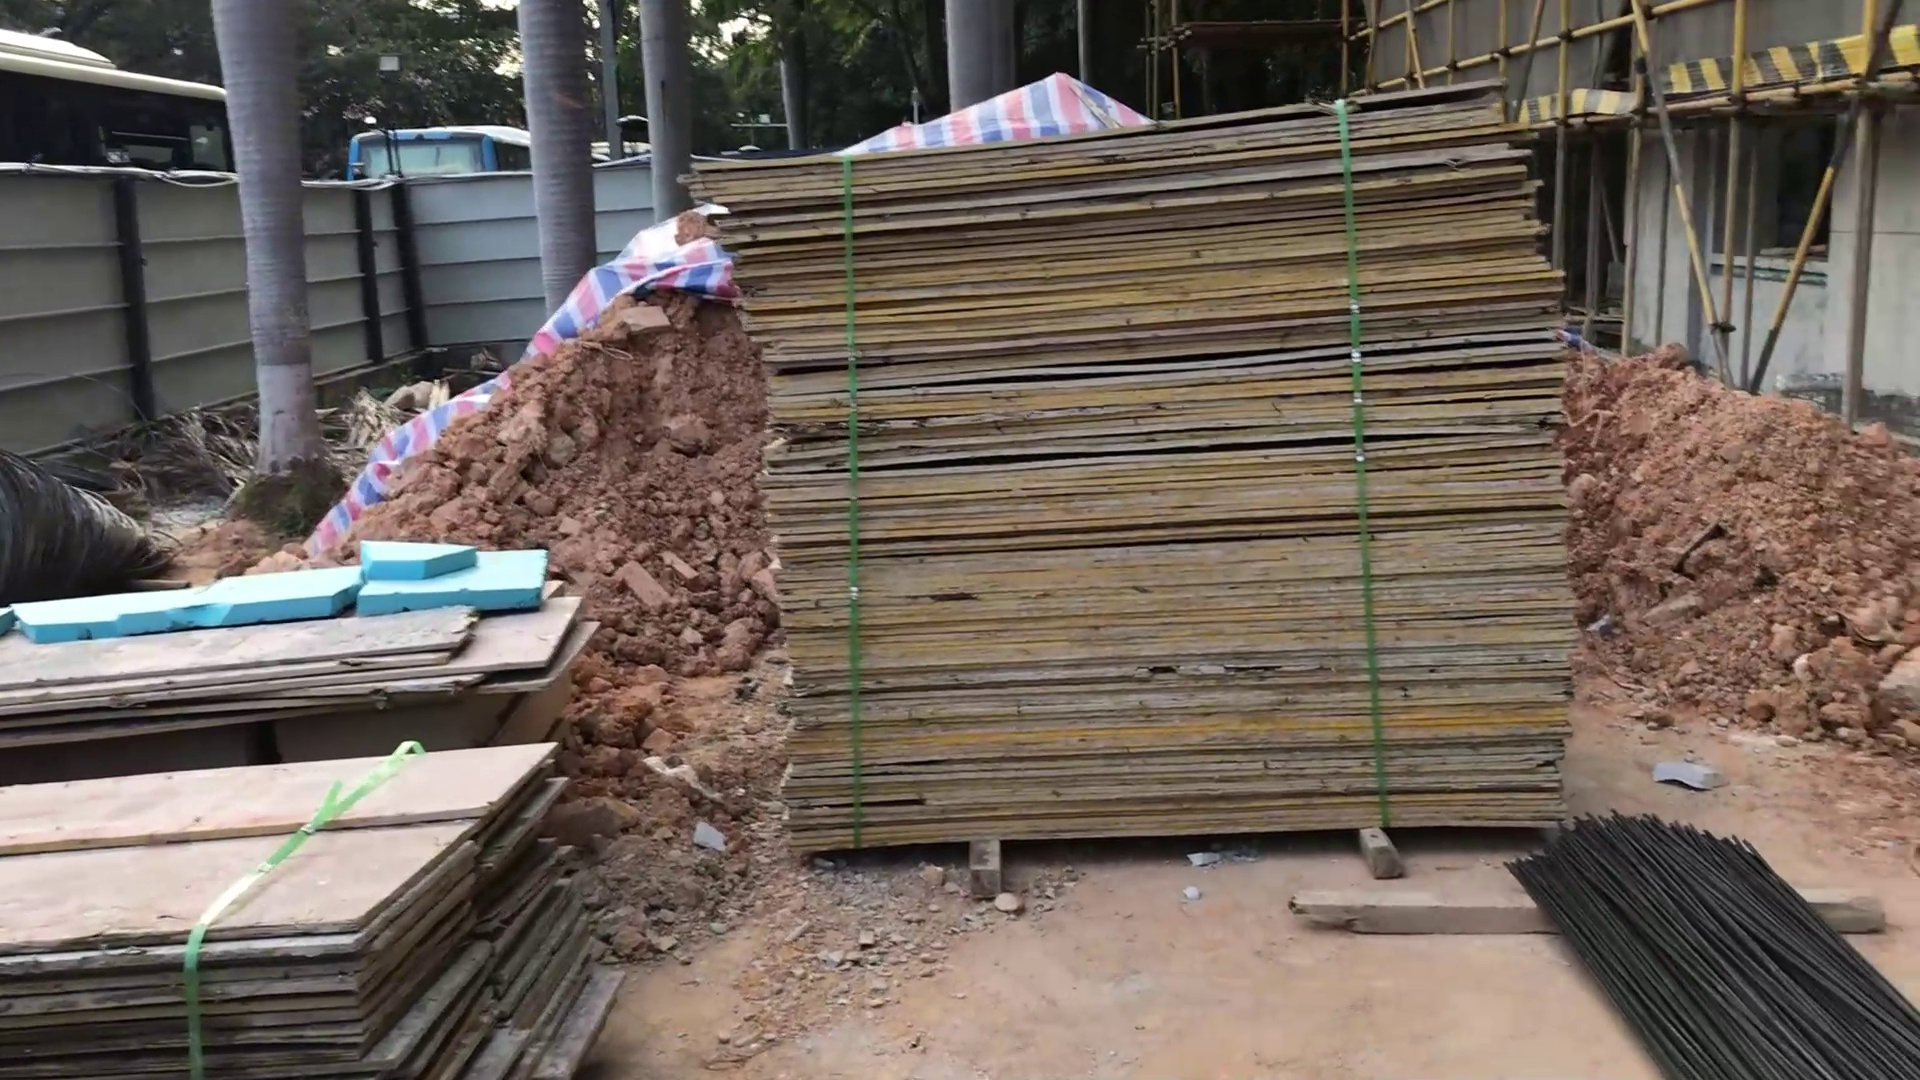board: (667, 67, 1586, 857), (1, 728, 655, 1072)
rebar: (1493, 800, 1920, 1075)
